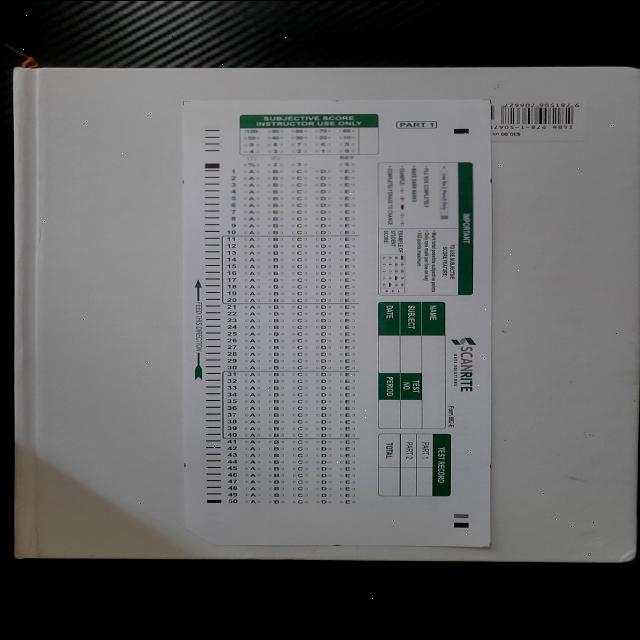scantron: (182, 99, 491, 546)
